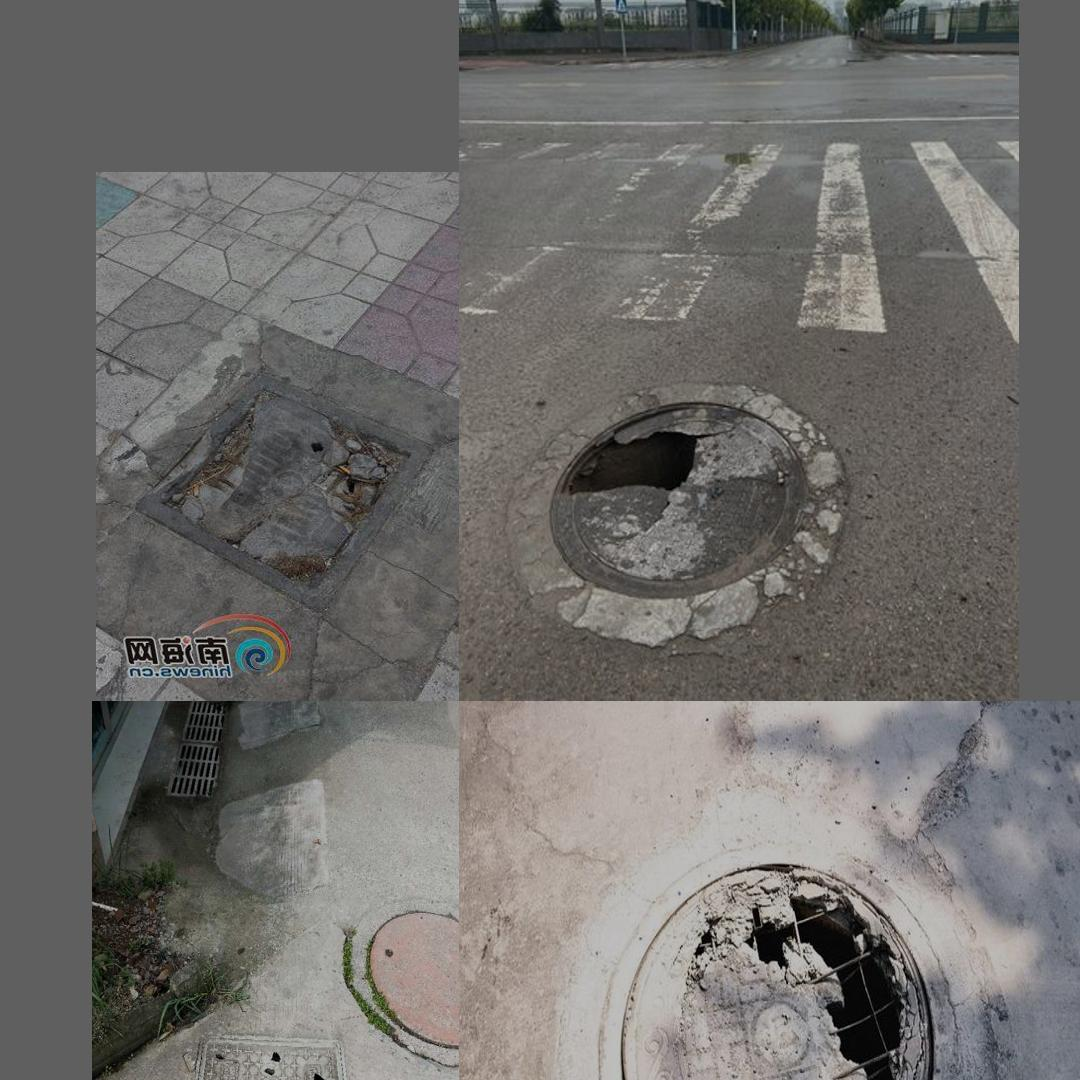broke: (536, 823, 1025, 1080), (487, 365, 854, 653), (120, 365, 436, 605), (186, 1035, 353, 1080)
